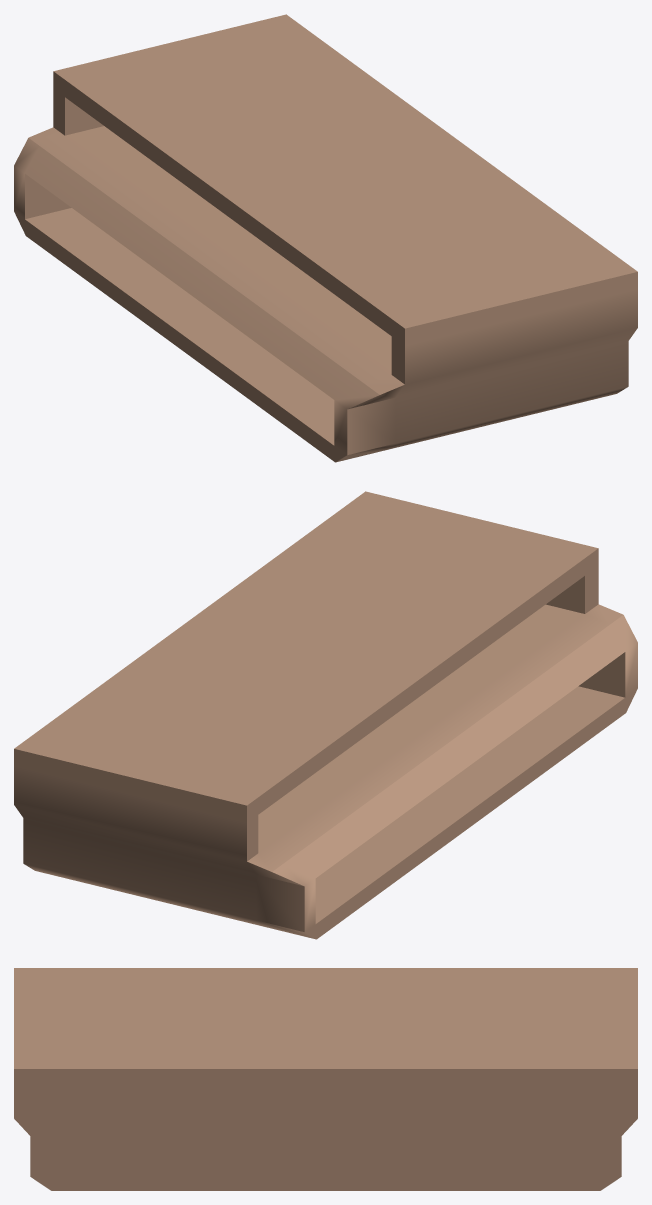
The model's file is tvmeubel_nieuwestijl.fbx.
The picture shows the model from 3 angles, top to bottom: view 1: azimuth 30°, elevation 25°; view 2: azimuth 150°, elevation 25°; view 3: azimuth 270°, elevation 25°; orthographic projection. The views are drawn at different scales.
Parts seen in each view (by area): view 1: pCube139; view 2: pCube139; view 3: pCube139.
Boxes of the visible parts, x1,y1,x2,y2 form: pCube139: [14, 14, 637, 462]; pCube139: [14, 491, 637, 939]; pCube139: [14, 968, 637, 1190].
Bounding box in the file's own units: 1.45 × 0.6764 × 3.13.
